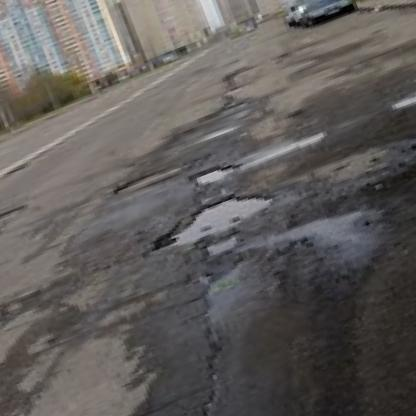pothole: (151, 181, 277, 255), (112, 156, 196, 197), (192, 160, 239, 191), (0, 205, 24, 238)
